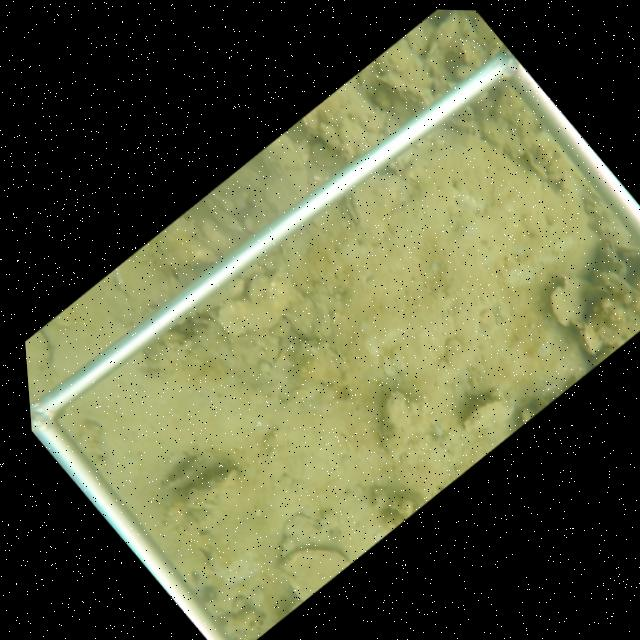Oyster-Closed: (295, 340, 354, 386), (580, 321, 603, 356)
Oyster-Indeterminate: (280, 219, 356, 297), (268, 545, 353, 603), (377, 387, 434, 465), (261, 132, 311, 216), (377, 37, 434, 107), (461, 392, 518, 436), (205, 196, 248, 234), (26, 329, 55, 372)
Oyster-Open: (347, 170, 406, 246)
